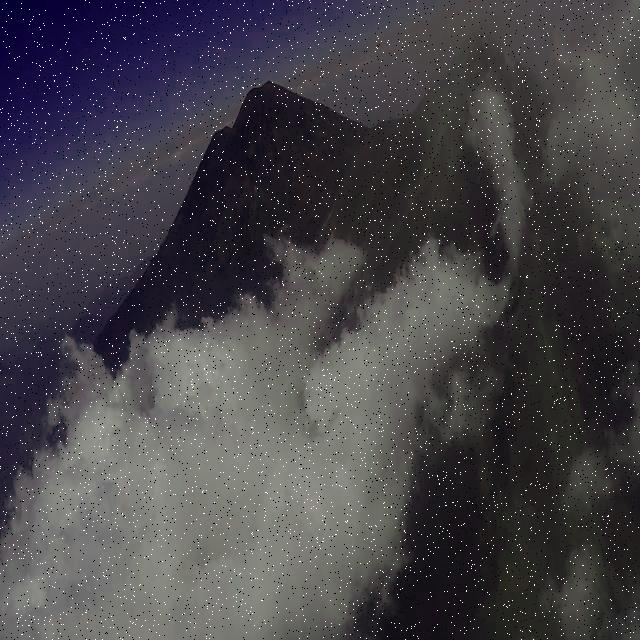Summit: (409, 19, 567, 160)
